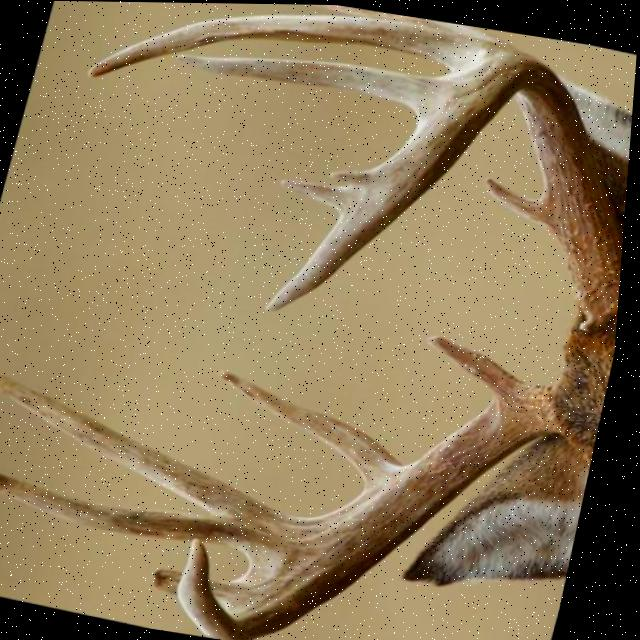E1: (332, 168, 374, 182)
E2: (281, 176, 352, 213)
L-F: (185, 381, 568, 640)
L-G1: (433, 331, 546, 402)
L-G2: (220, 368, 412, 482)
L-G3: (0, 369, 323, 558)
L-G4: (0, 469, 229, 542)
R-F: (268, 41, 627, 321)
R-G1: (487, 176, 558, 231)
R-G3: (88, 12, 498, 77)
R-G4: (175, 53, 449, 118)
